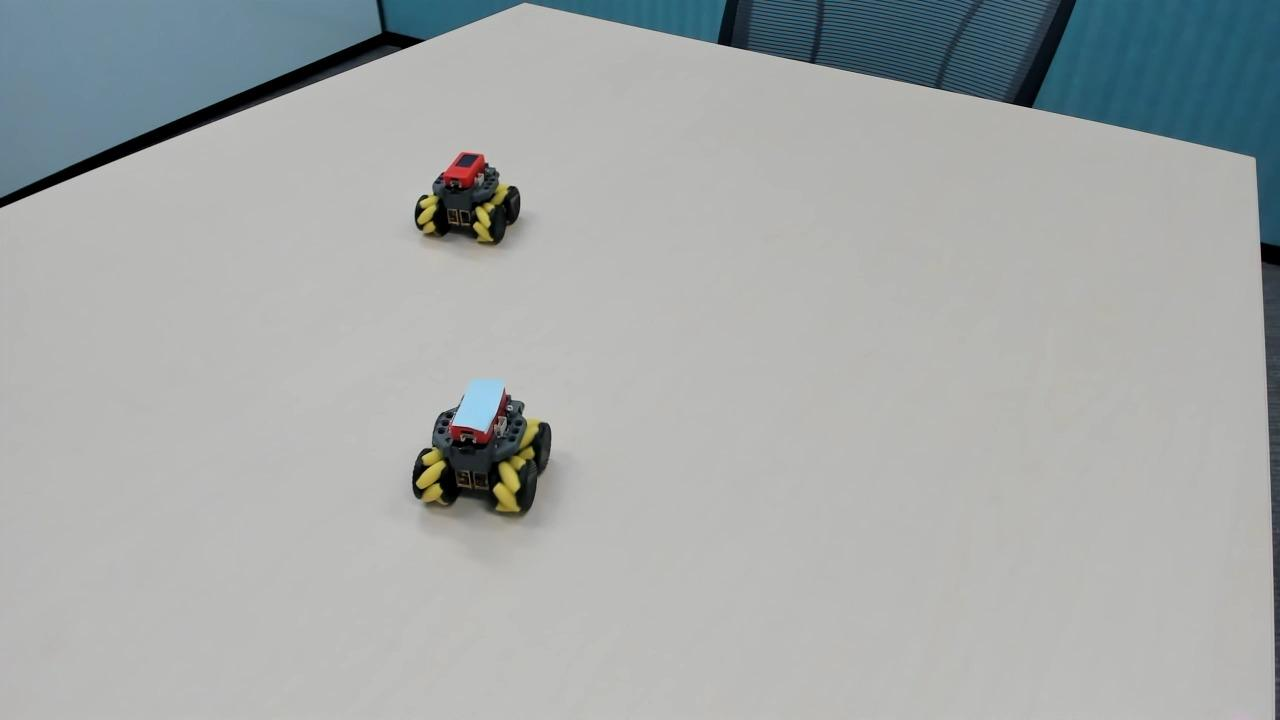B-Robot: (404, 368, 561, 542)
R-Robot: (402, 145, 532, 265)
